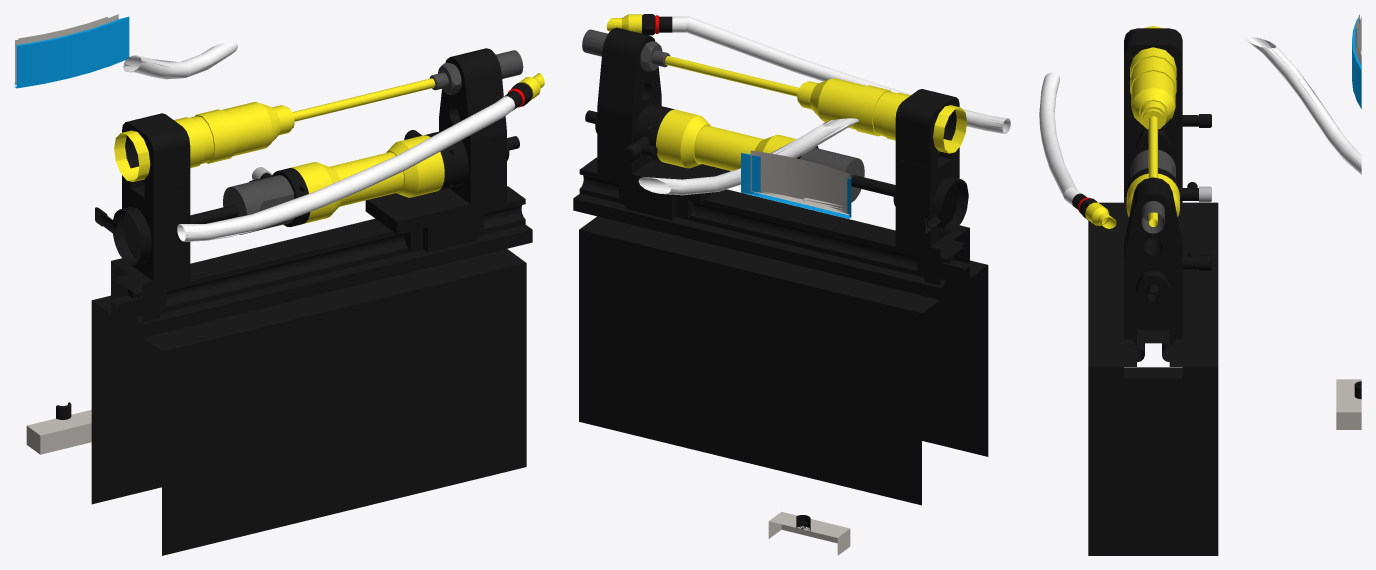
The model's file is Cube04_PinInsertionStation.glb.
3 renders of one model, left to right at view 1: azimuth 30°, elevation 25°; view 2: azimuth 150°, elevation 25°; view 3: azimuth 270°, elevation 25°, orthographic. The views are drawn at different scales.
Parts seen in each view (by area): view 1: color-25; view 2: color-25; view 3: color-25.
Part boxes in pixels (x1,y1,x2,y2): color-25: (14, 14, 544, 555); color-25: (573, 14, 1010, 555); color-25: (1039, 14, 1361, 555).
Size of the model in its own units: 0.32 by 0.32 by 0.2476.
